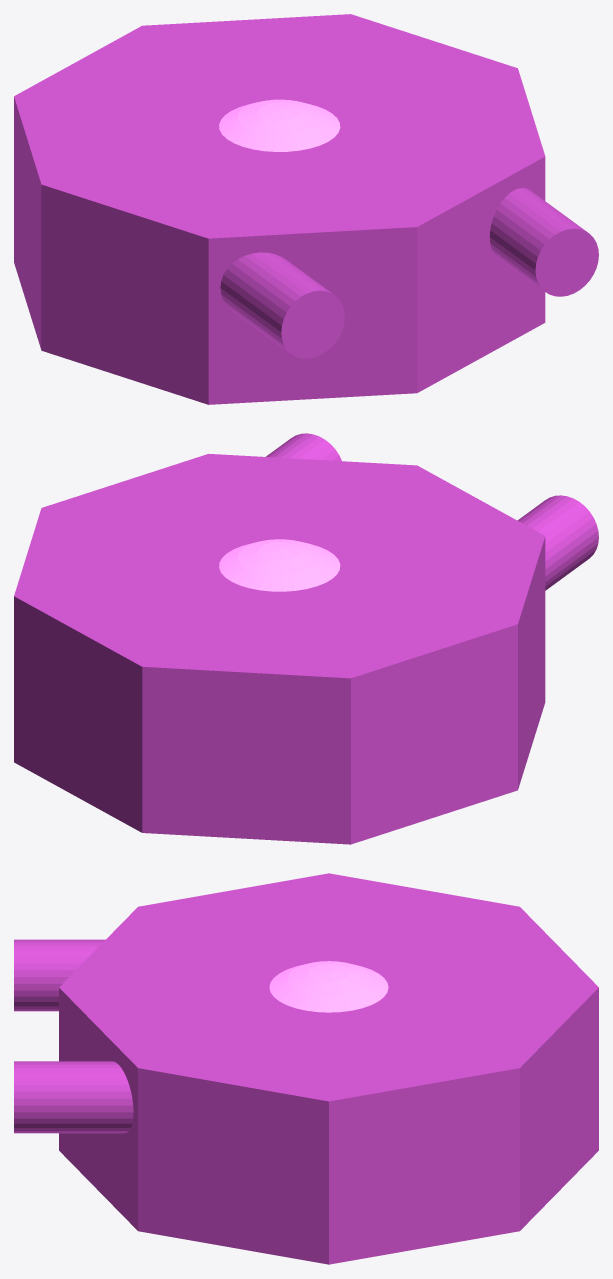
Rendered from enemy_v2_heavy.glb.
The picture shows the model from 3 angles, top to bottom: view 1: azimuth 30°, elevation 25°; view 2: azimuth 150°, elevation 25°; view 3: azimuth 270°, elevation 25°; orthographic projection.
Visible parts, largest first — view 1: Cylinder, Cylinder.001, Cylinder.002, Sphere; view 2: Cylinder, Sphere, Cylinder.001, Cylinder.002; view 3: Cylinder, Cylinder.002, Sphere, Cylinder.001.
Boxes of the visible parts, box(x1,y1,x2,y2) form: Cylinder: box(14, 14, 545, 404); Cylinder.001: box(220, 252, 344, 358); Cylinder.002: box(489, 188, 598, 296); Sphere: box(219, 99, 340, 151); Cylinder: box(14, 453, 545, 844); Sphere: box(219, 539, 340, 591); Cylinder.001: box(517, 495, 598, 590); Cylinder.002: box(266, 433, 341, 461); Cylinder: box(59, 873, 598, 1264); Cylinder.002: box(14, 1061, 133, 1133); Sphere: box(269, 961, 388, 1012); Cylinder.001: box(14, 939, 105, 1011).
Size of the model in its own units: 3 by 1.2 by 3.25.
